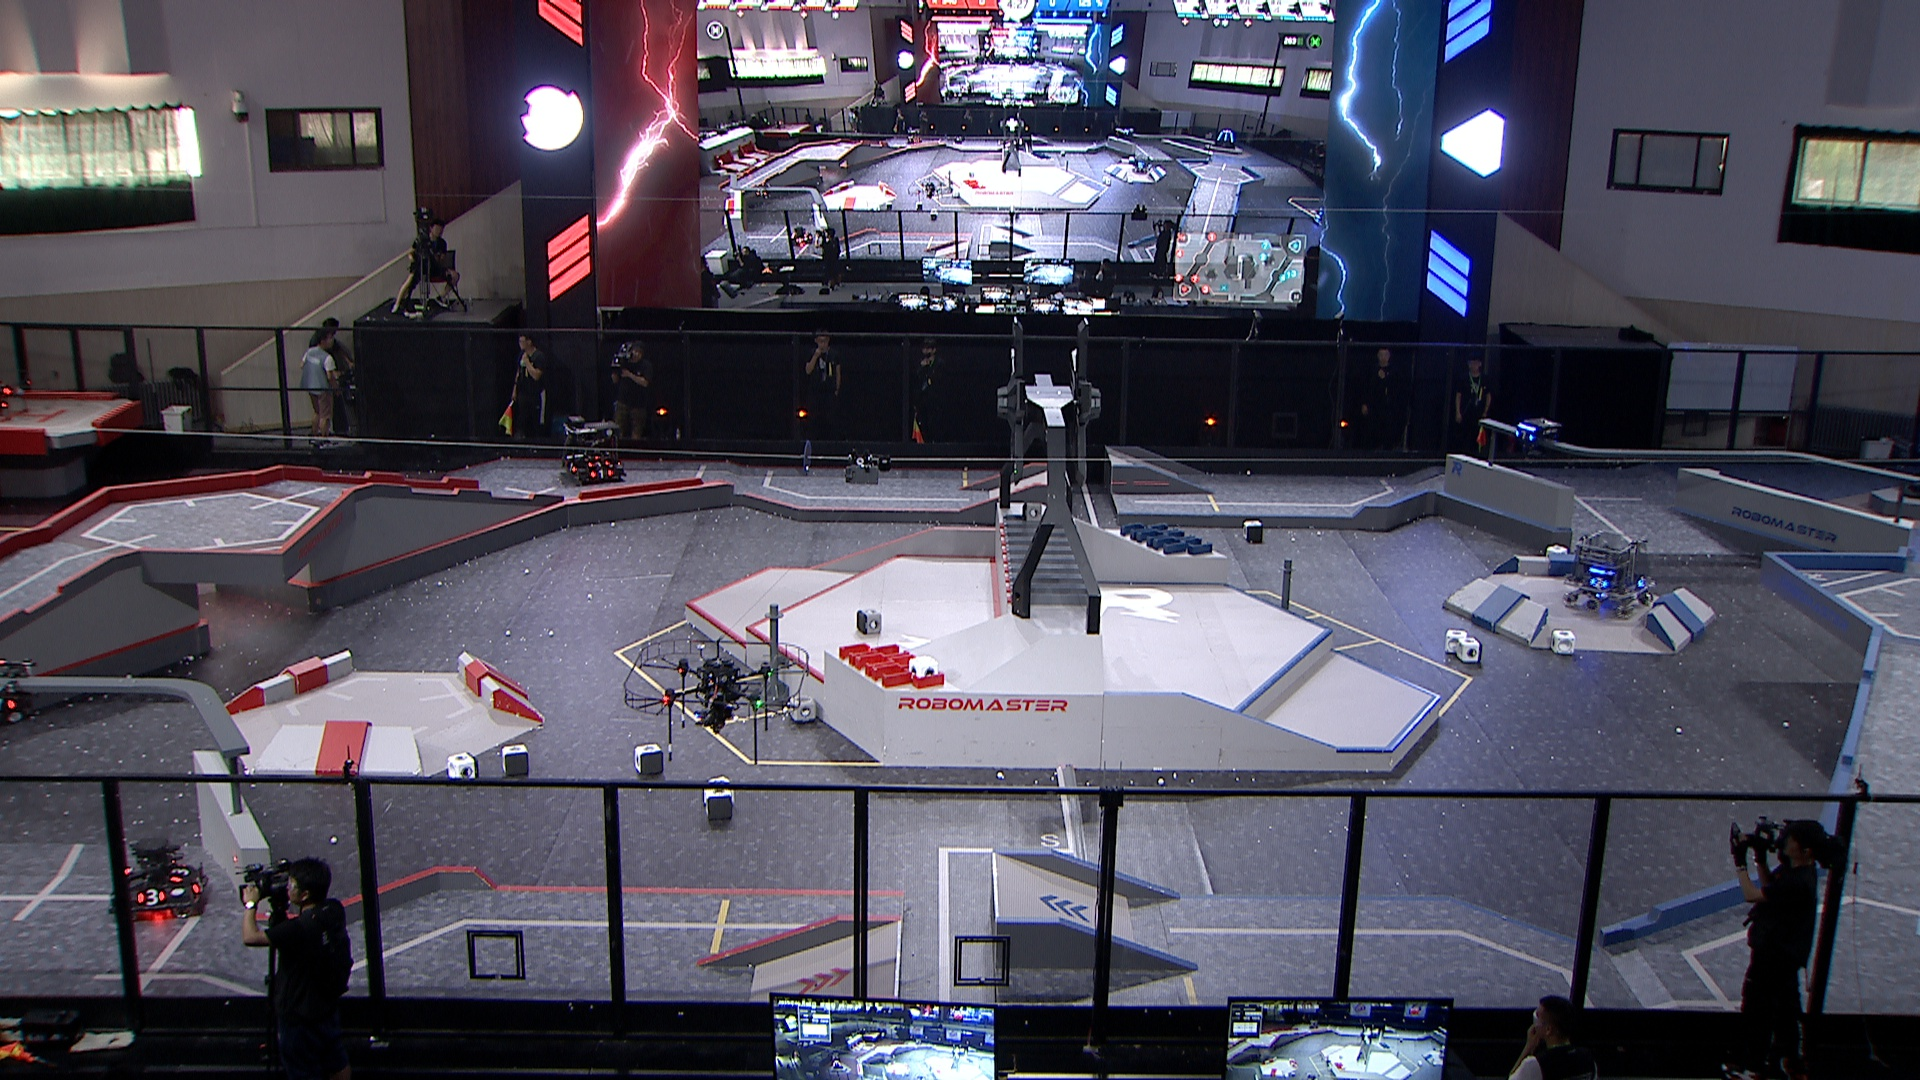armor: (135, 889, 167, 909), (169, 865, 193, 884), (1514, 429, 1538, 443), (589, 469, 615, 481), (1590, 575, 1610, 589), (193, 876, 206, 894), (585, 462, 611, 469), (1636, 575, 1650, 589), (566, 462, 580, 473)
car: (1565, 527, 1658, 618), (107, 835, 208, 916), (560, 414, 629, 485)
ignore: (790, 225, 814, 248), (1215, 128, 1237, 150), (1133, 156, 1153, 174), (756, 181, 773, 200), (905, 128, 923, 145), (1313, 207, 1325, 225), (1124, 127, 1135, 138)
watcher: (1515, 415, 1561, 462)
